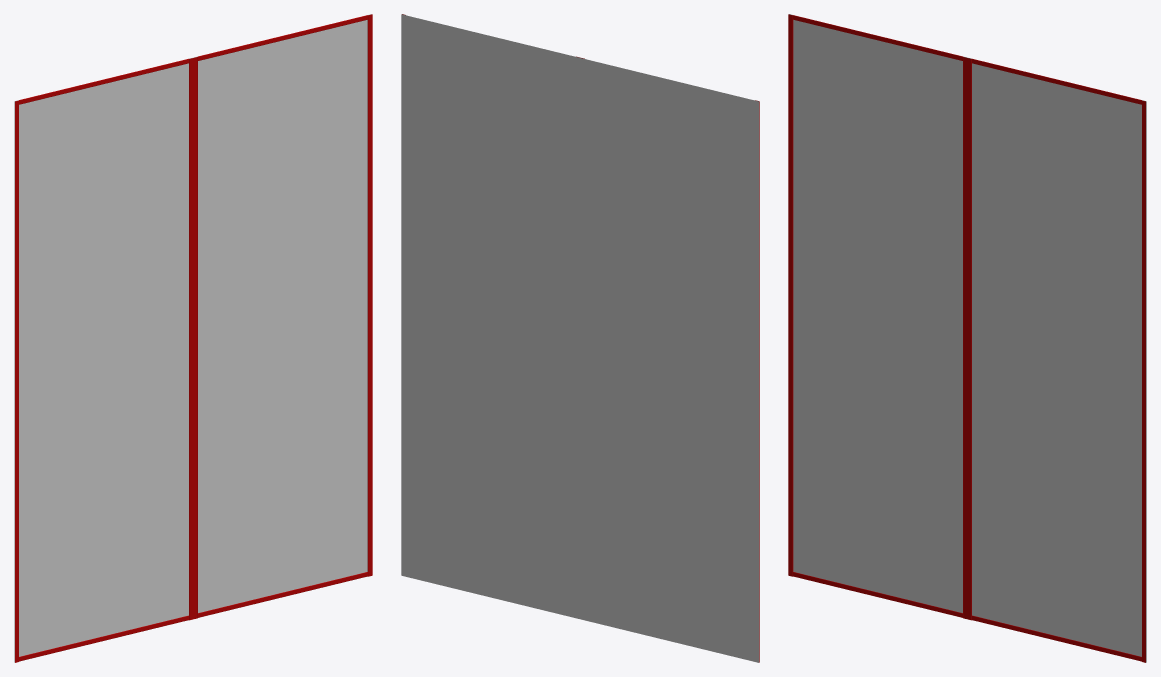
The model's file is Wall02b.fbx.
3 views of the same model, side by side, from view 1: azimuth 30°, elevation 25°; view 2: azimuth 150°, elevation 25°; view 3: azimuth 330°, elevation 25° (orthographic).
Visible parts, largest first — view 1: Wall02b; view 2: Wall02b; view 3: Wall02b.
Boxes of the visible parts, x1,y1,x2,y2 form: Wall02b: [14, 14, 372, 662]; Wall02b: [401, 14, 759, 662]; Wall02b: [788, 14, 1146, 662].
Size of the model in its own units: 200 by 300 by 0.348.
